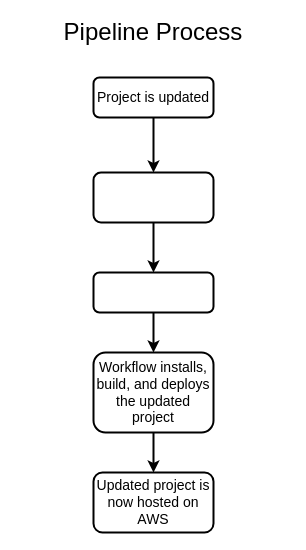
The diagram is 306 pixels wide and 550 high, and some of its shapes have lost their labels. The centre of each missing label's shape, as x and y in pixels:
"CircleCi triggers a new workflow" goes at (153,292).
"Updated project is pushed to GitHub" goes at (153,197).
